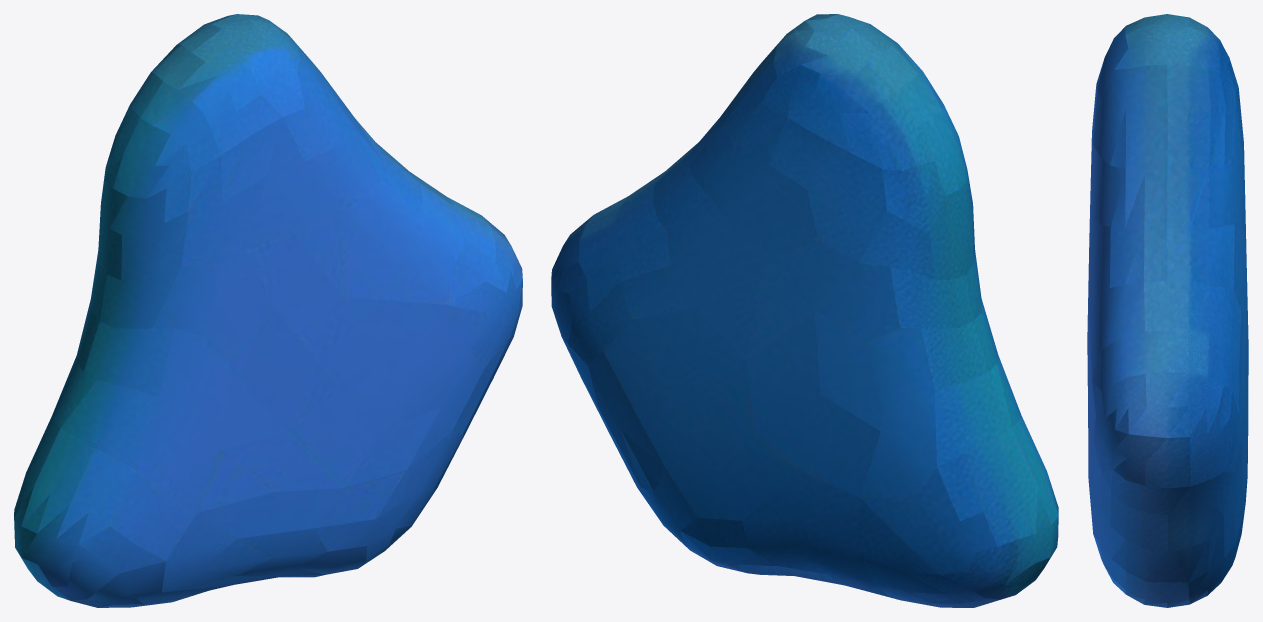
File: sea-glass-original.glb
3 views of the same model, side by side, from view 1: azimuth 30°, elevation 25°; view 2: azimuth 150°, elevation 25°; view 3: azimuth 270°, elevation 25° (orthographic). The views are drawn at different scales.
Visible parts, largest first — view 1: mesh_node; view 2: mesh_node; view 3: mesh_node.
Boxes of the visible parts, x1,y1,x2,y2 form: mesh_node: (14, 14, 522, 607); mesh_node: (551, 14, 1058, 607); mesh_node: (1087, 14, 1248, 607).
Size of the model in its own units: 0.9102 by 1 by 0.2705.
1 material, 1 textured.
